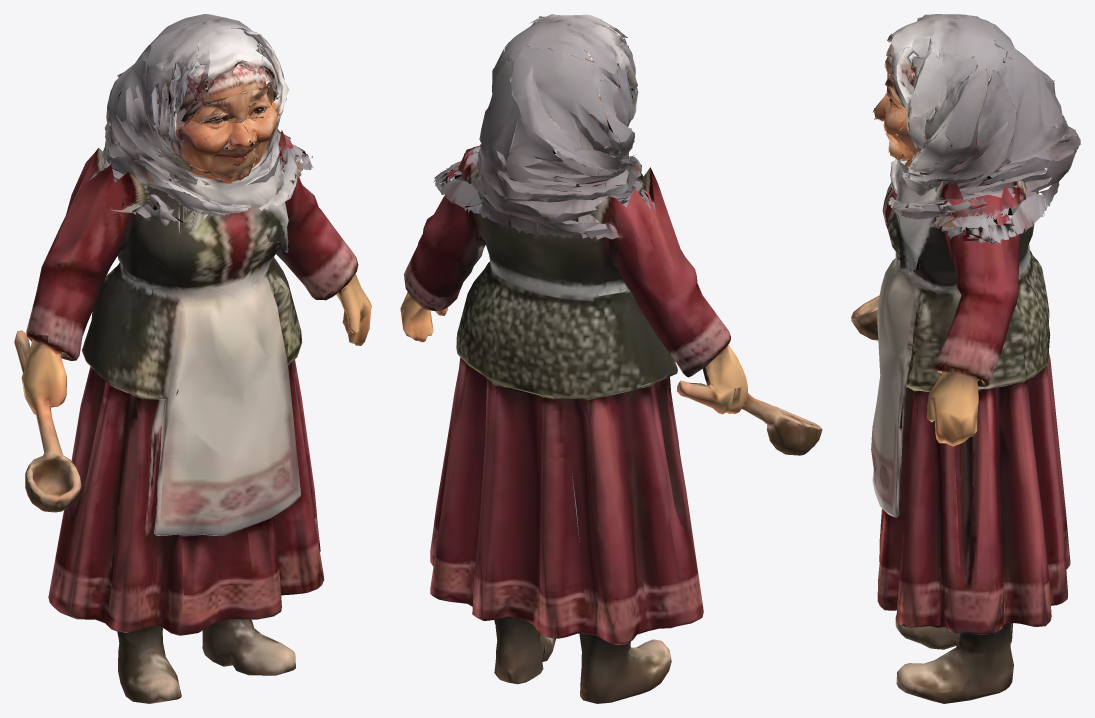
The model's file is cook.gen.glb.
The picture shows the model from 3 angles, left to right: view 1: azimuth 30°, elevation 25°; view 2: azimuth 150°, elevation 25°; view 3: azimuth 270°, elevation 25°; orthographic projection.
Visible parts, largest first — view 1: cook.raw; view 2: cook.raw; view 3: cook.raw.
Part boxes in pixels (x1,y1,x2,y2): cook.raw: (14, 14, 371, 703); cook.raw: (400, 14, 822, 703); cook.raw: (851, 14, 1080, 703).
Size of the model in its own units: 1.06 by 1.75 by 0.5576.
Materials: 1 (1 with a texture image).
